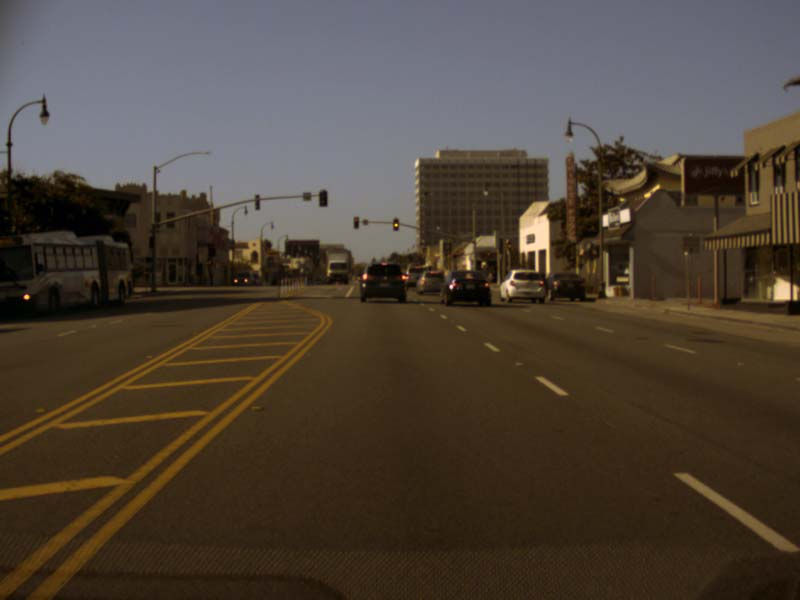Red: (353, 216, 358, 229)
Yellow: (392, 219, 398, 230)
